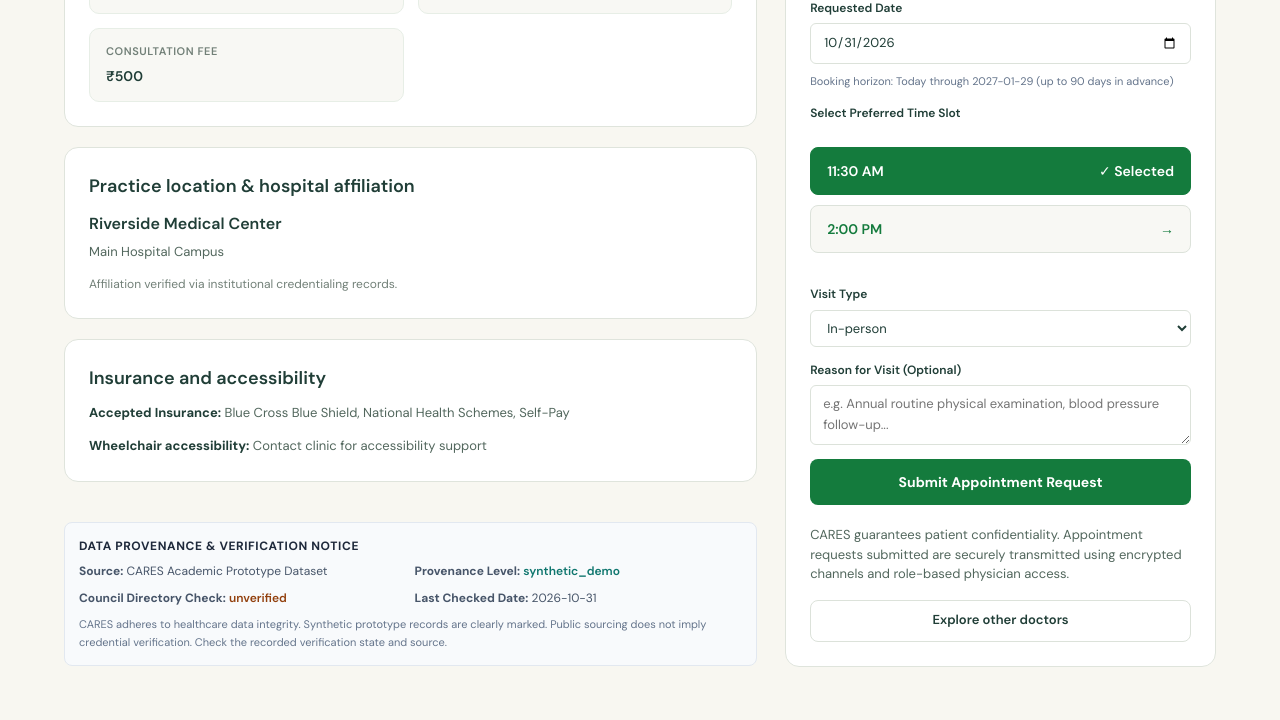
Scenario: Milestone 5: Automated Frontend Appointment Workflow Component Tests › DoctorProfile Booking Panel Authorization & States › allows eligible patient to submit request, displays 90-day booking note, and shows success card
(page scrolled)
Expected: the text "Booking horizon: Today through" is shown, [810,74,972,88]
Click the button "Submit Appointment Request".
click(1001, 482)  # box [810,458,1191,505]
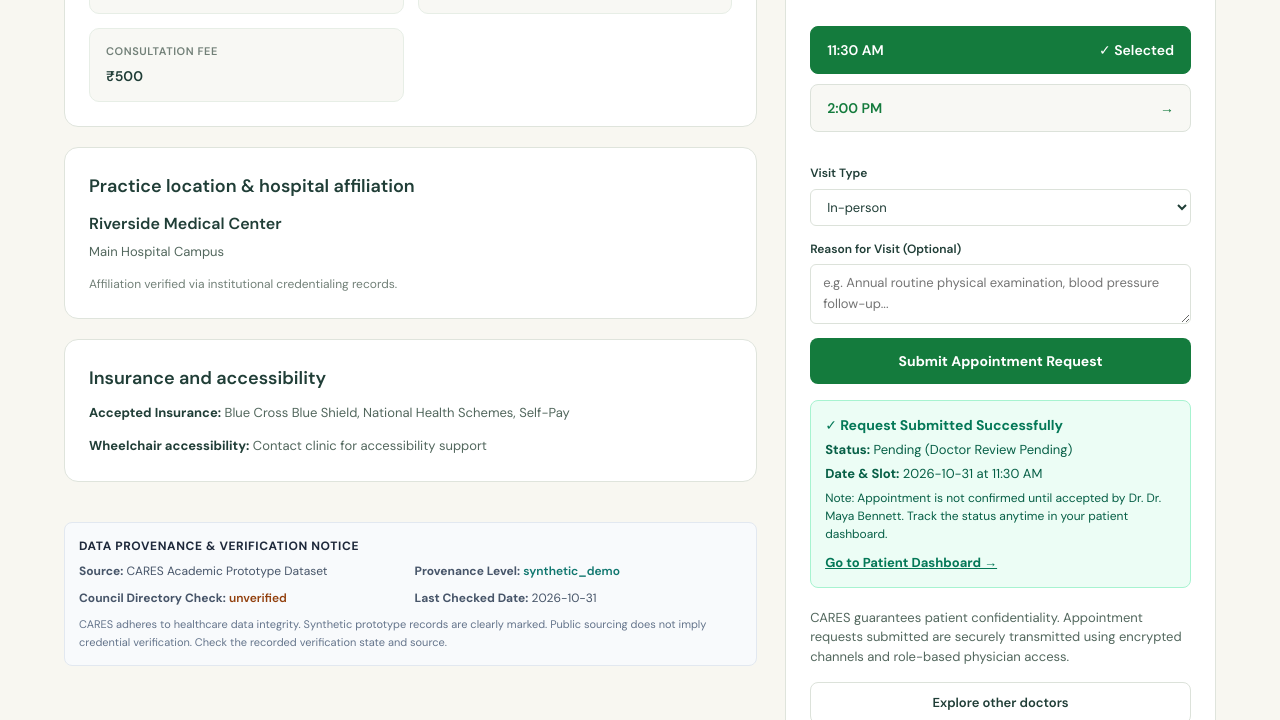
Expected: the heading "✓ Request Submitted Successfully" is shown, [825,416,1063,434]
Expected: the link "Go to Patient Dashboard →" is shown, [825,553,997,573]
